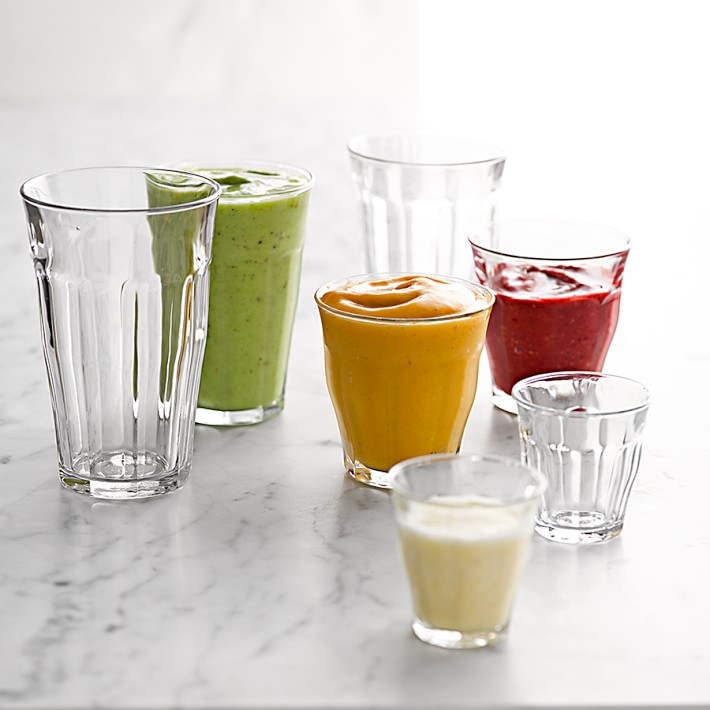Nonrec_Glass: (14, 129, 240, 525), (334, 92, 523, 380), (378, 453, 534, 658), (515, 367, 659, 575)
